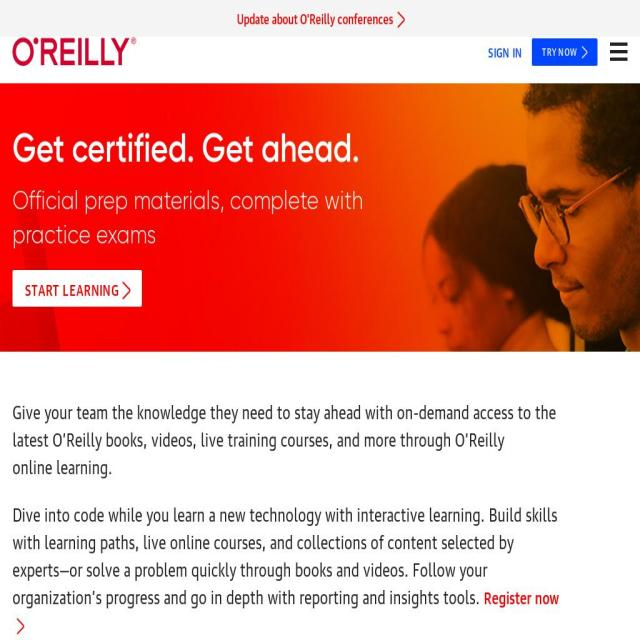button: (13, 268, 142, 309), (533, 34, 598, 66), (482, 37, 530, 68), (605, 36, 633, 70), (10, 610, 31, 640)
heading: (10, 189, 365, 252), (12, 129, 361, 173), (10, 29, 138, 73)
link: (236, 12, 407, 30), (481, 586, 564, 609)
text: (10, 398, 567, 610)
